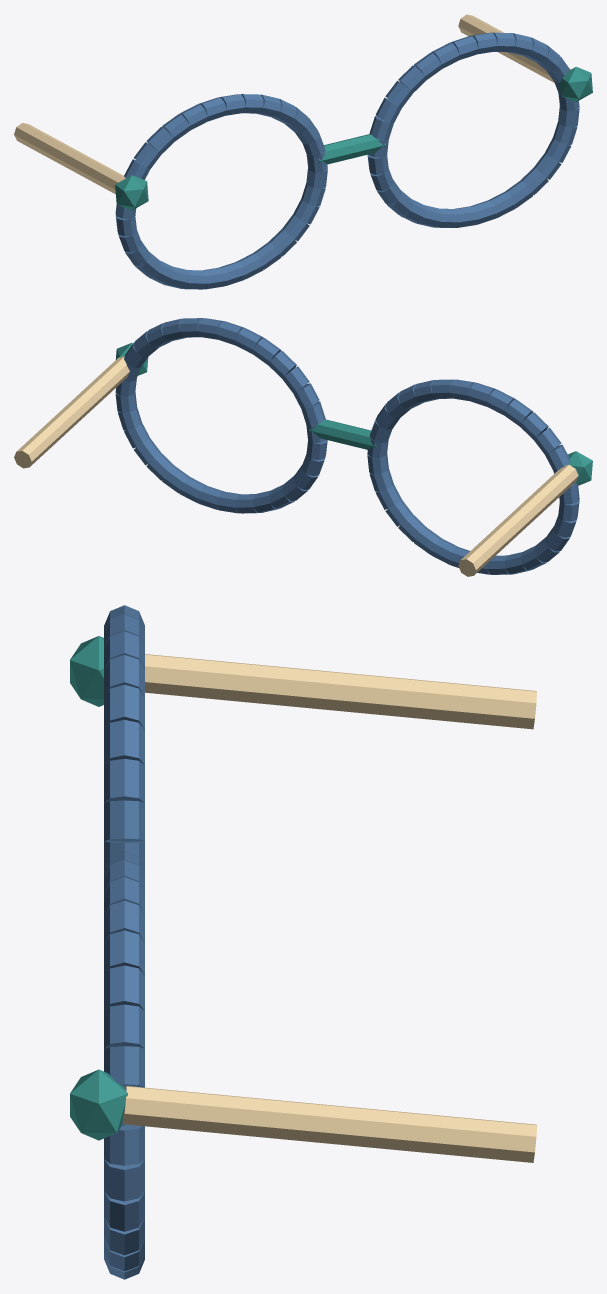
Rendered from eyewear_round_wire.glb.
3 renders of one model, top to bottom at view 1: azimuth 30°, elevation 25°; view 2: azimuth 150°, elevation 25°; view 3: azimuth 270°, elevation 25°, orthographic. The views are drawn at different scales.
Visible parts, largest first — view 1: wearable; view 2: wearable; view 3: wearable.
Part boxes in pixels (x1,y1,x2,y2): wearable: (14,14,592,289); wearable: (14,318,592,576); wearable: (70,605,536,1279).
Bounding box in the file's own units: 0.6411 × 0.2439 × 0.2733.
